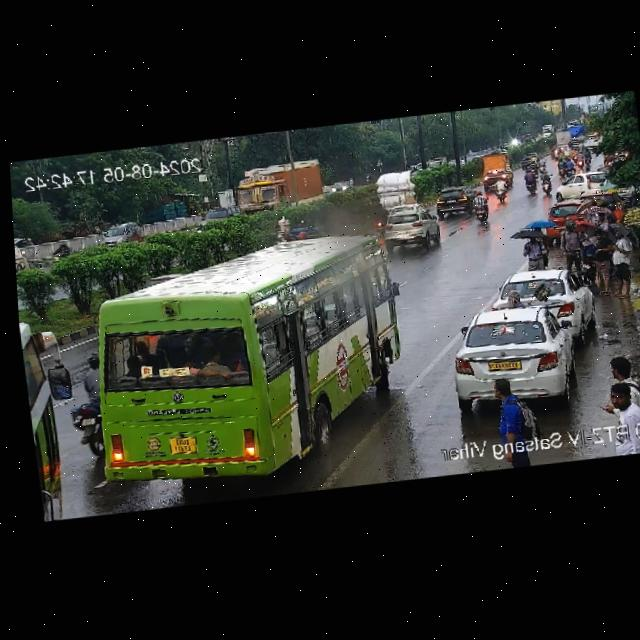bus: (73, 226, 412, 454), (19, 314, 92, 521)
car: (442, 301, 579, 409), (495, 263, 588, 336), (378, 203, 445, 253), (188, 204, 240, 240), (95, 218, 147, 252), (554, 169, 614, 194), (432, 184, 473, 218), (481, 168, 513, 191), (48, 239, 73, 265)
motorcycle: (466, 191, 491, 224), (487, 175, 511, 202), (538, 168, 555, 198), (523, 168, 540, 194)
person: (484, 373, 534, 459), (593, 349, 640, 435), (605, 222, 639, 288), (552, 217, 587, 269), (519, 223, 553, 271), (585, 228, 614, 281)
truck: (231, 155, 328, 216), (375, 168, 418, 208), (479, 148, 513, 181)
